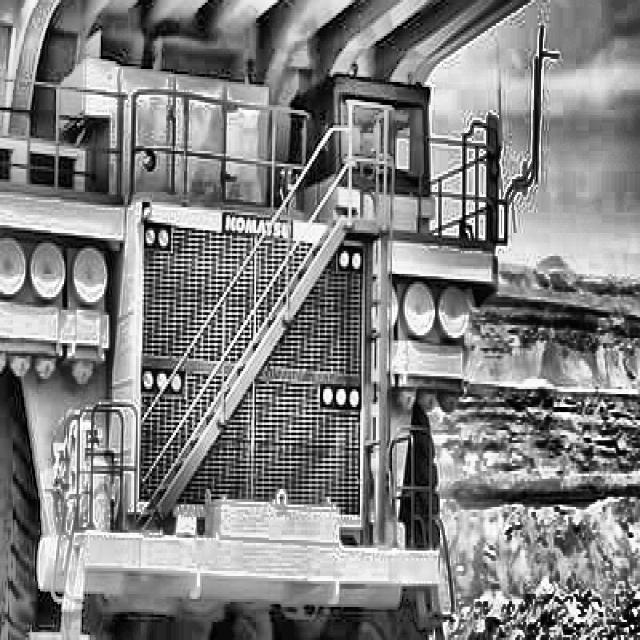dump_truck: (0, 0, 562, 640)
